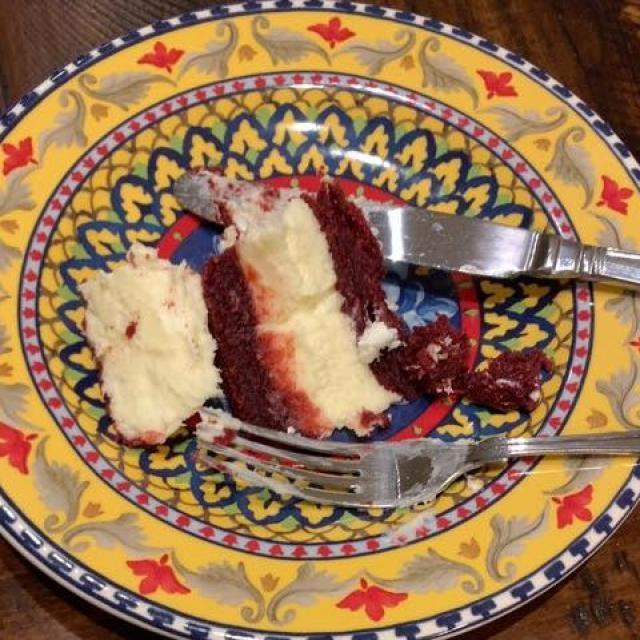cheesecake: (90, 184, 518, 500)
